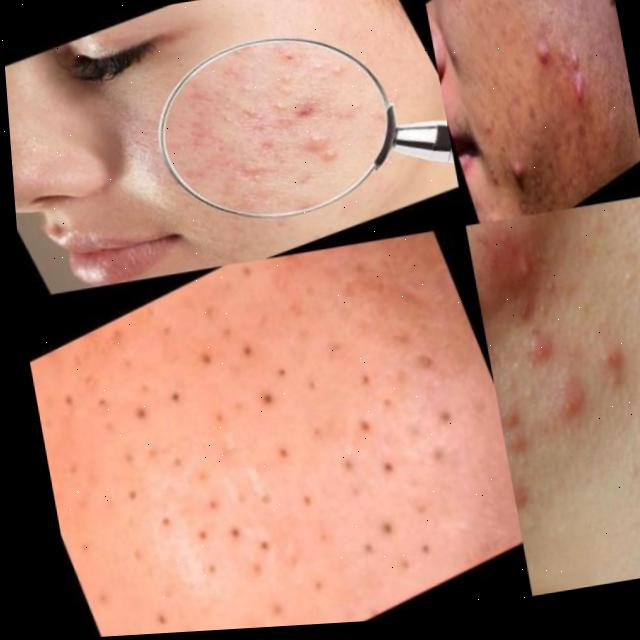Acne: (88, 334, 465, 591), (498, 290, 640, 482), (189, 67, 354, 196), (500, 15, 624, 154)
